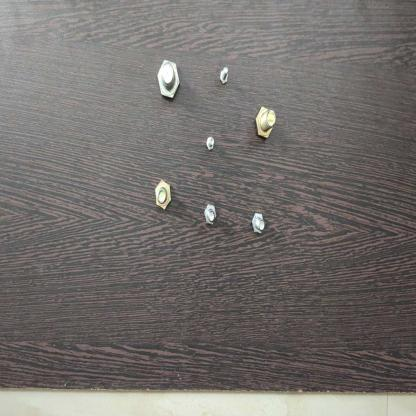Bolts: (155, 59, 180, 101), (254, 103, 275, 144), (153, 176, 173, 217), (202, 201, 221, 232), (250, 210, 266, 242), (216, 63, 234, 91), (205, 132, 217, 154)
